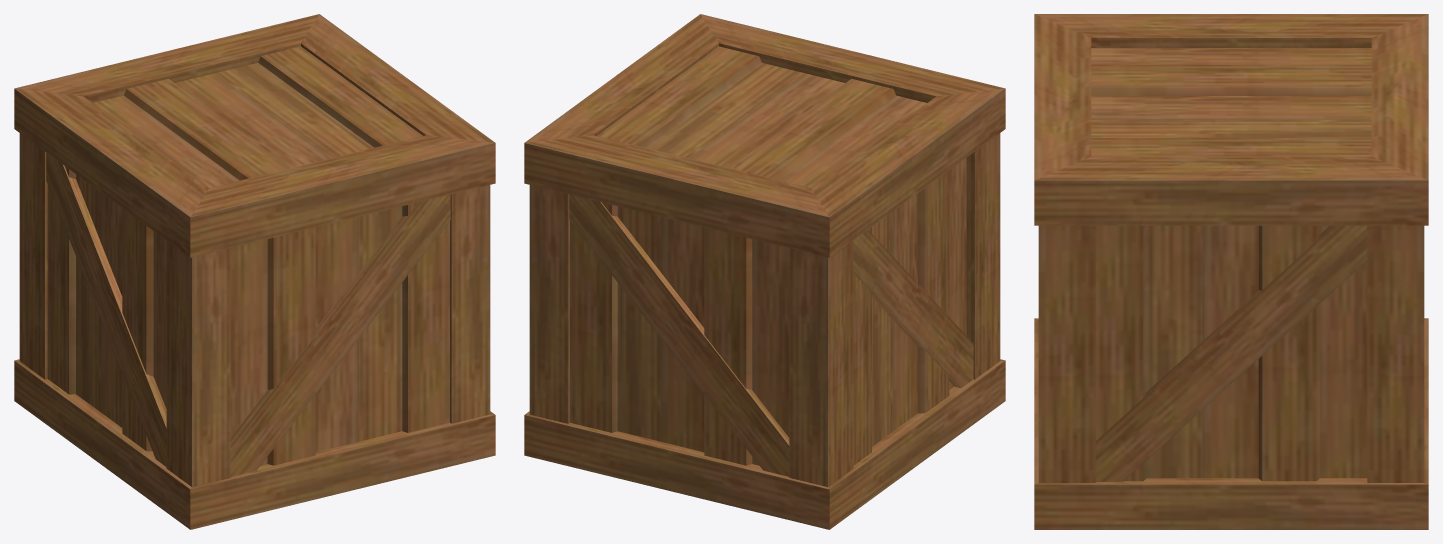
File: Prop_Crate.gltf
3 views of the same model, side by side, from view 1: azimuth 30°, elevation 25°; view 2: azimuth 150°, elevation 25°; view 3: azimuth 270°, elevation 25° (orthographic). The views are drawn at different scales.
Visible parts, largest first — view 1: Prop_Crate; view 2: Prop_Crate; view 3: Prop_Crate.
Part boxes in pixels (bbox=[...]): Prop_Crate: bbox=[14, 14, 495, 529]; Prop_Crate: bbox=[524, 14, 1005, 529]; Prop_Crate: bbox=[1034, 14, 1428, 529].
Size of the model in its own units: 1.08 by 1.06 by 1.08.
Materials: 1 (1 with a texture image).
